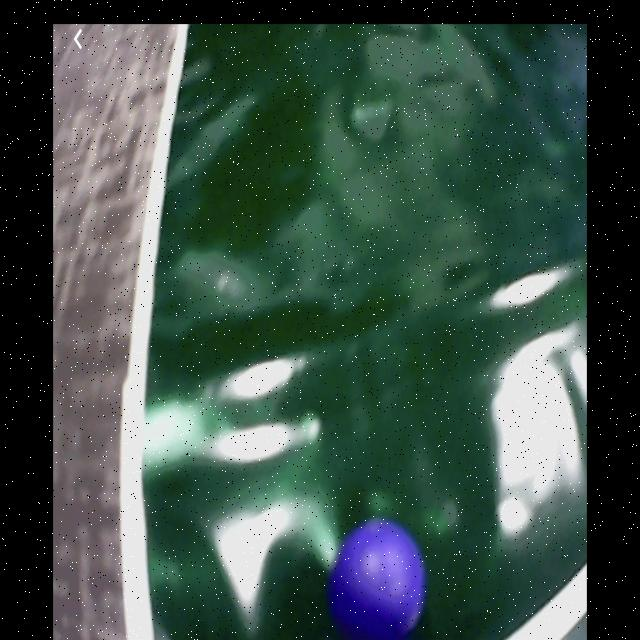ball: (332, 522, 423, 640)
